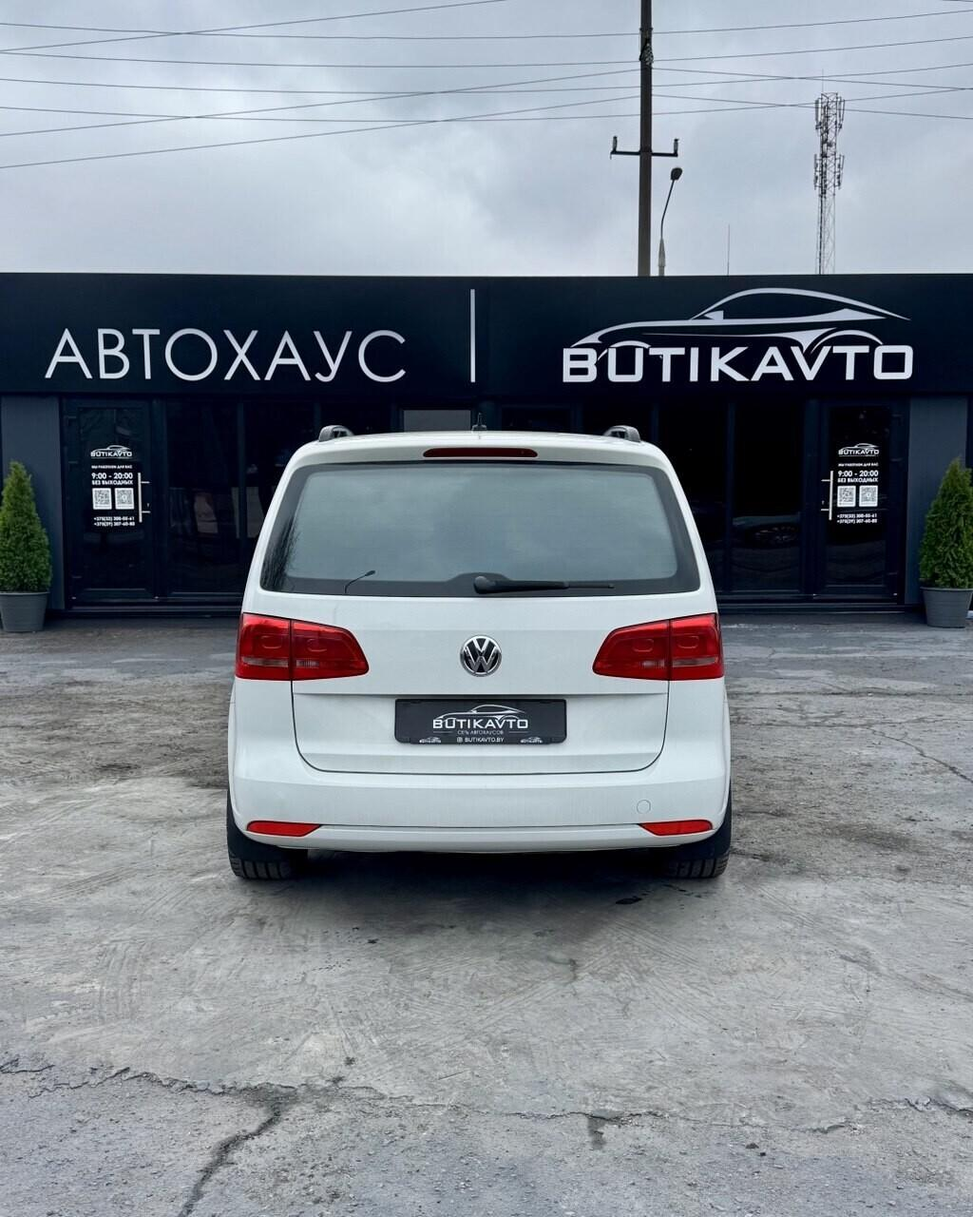Touran_2010-2015: (220, 417, 741, 913)
